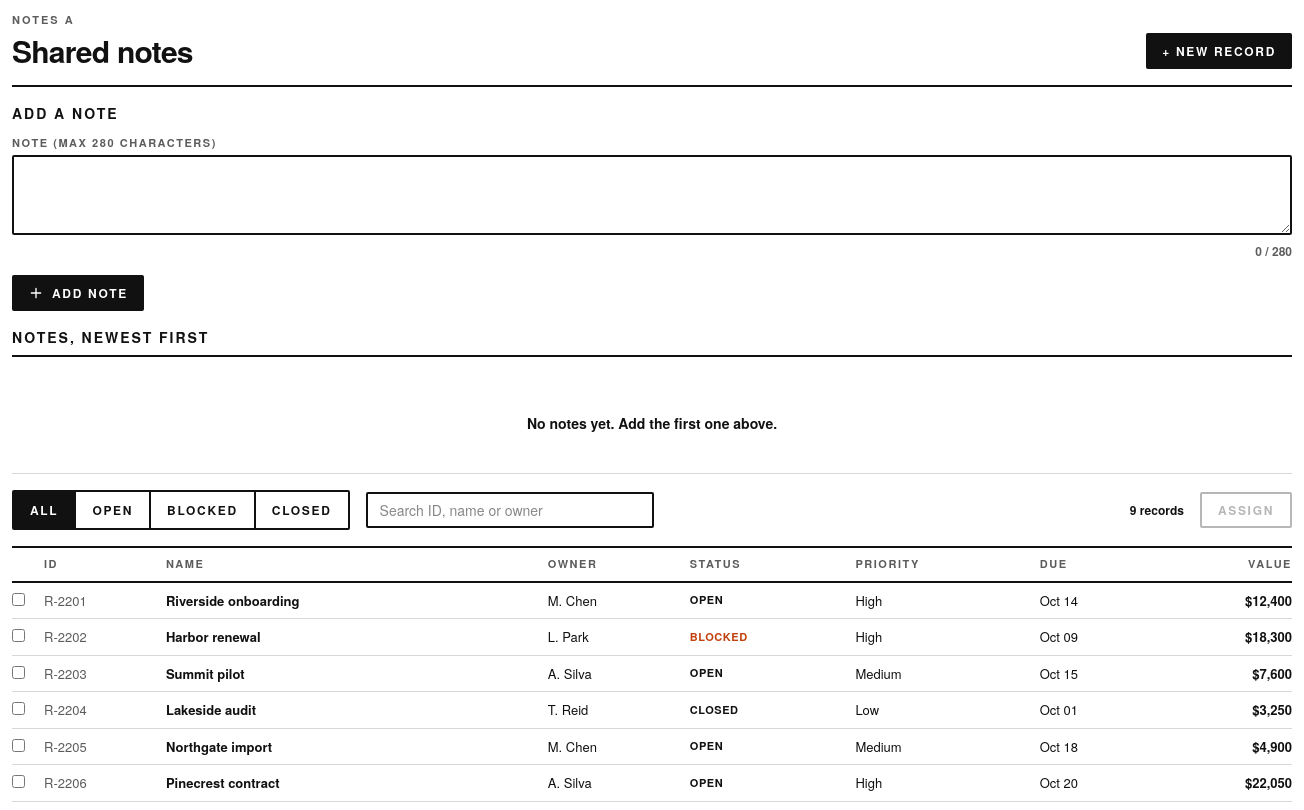
Test: Notes screen › a rejected POST shows a validation message and keeps the draft
Expected: the text "No notes yet. Add the first one above." is shown, [12, 373, 1292, 474]
Type "a valid draft" into the text box labelled "Note (max 280 characters)".
click(652, 195); type("a valid draft")  # box [12, 155, 1292, 235]
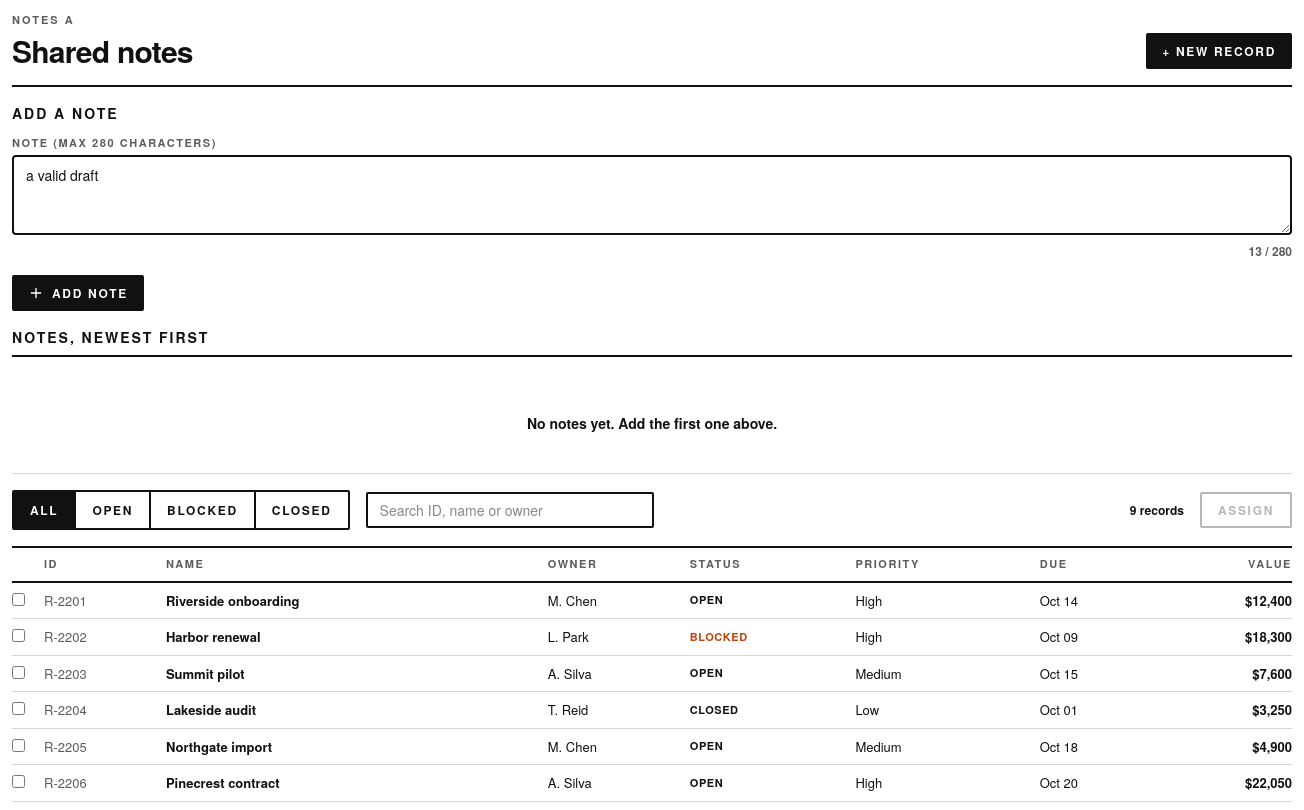
Click the button "Add note".
click(78, 293)  # box [12, 275, 144, 311]
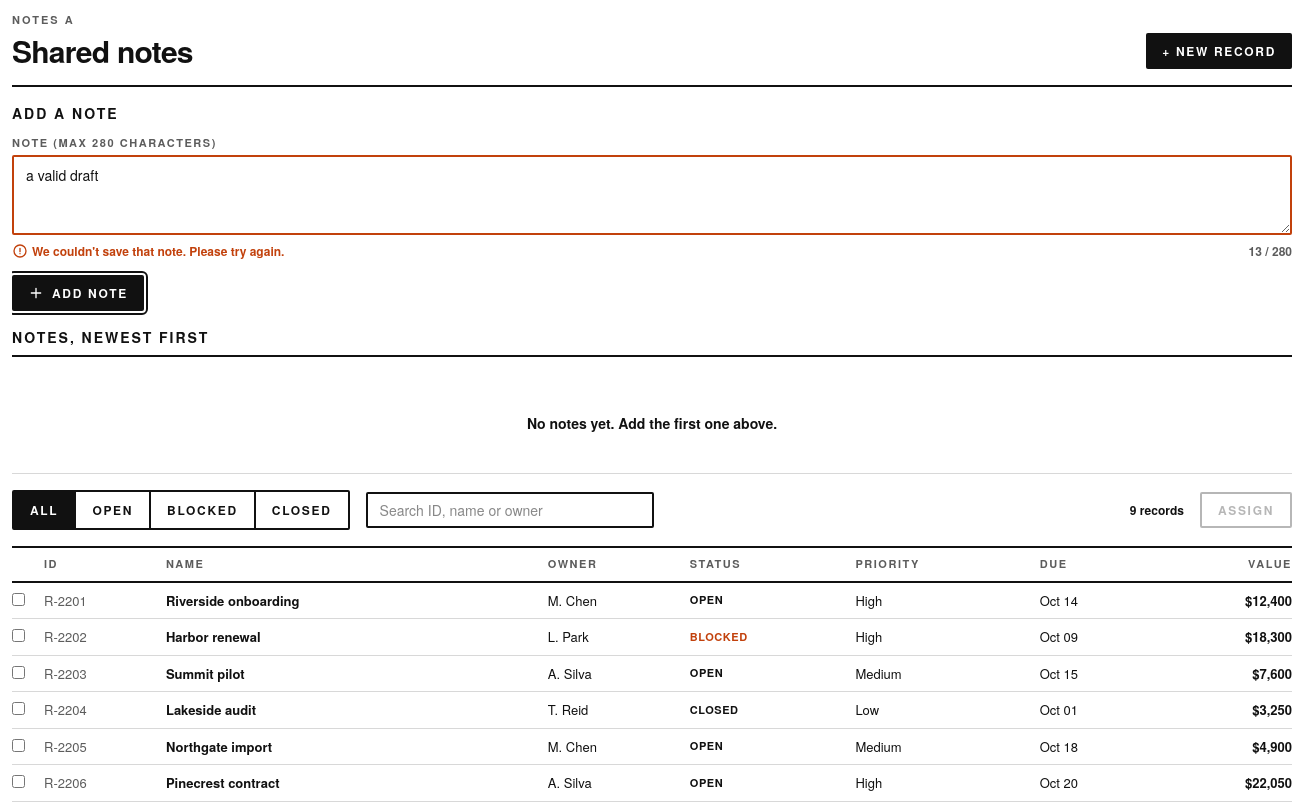
Expected: the text "We couldn't save that note. Please try again." is shown, [32, 243, 284, 259]
